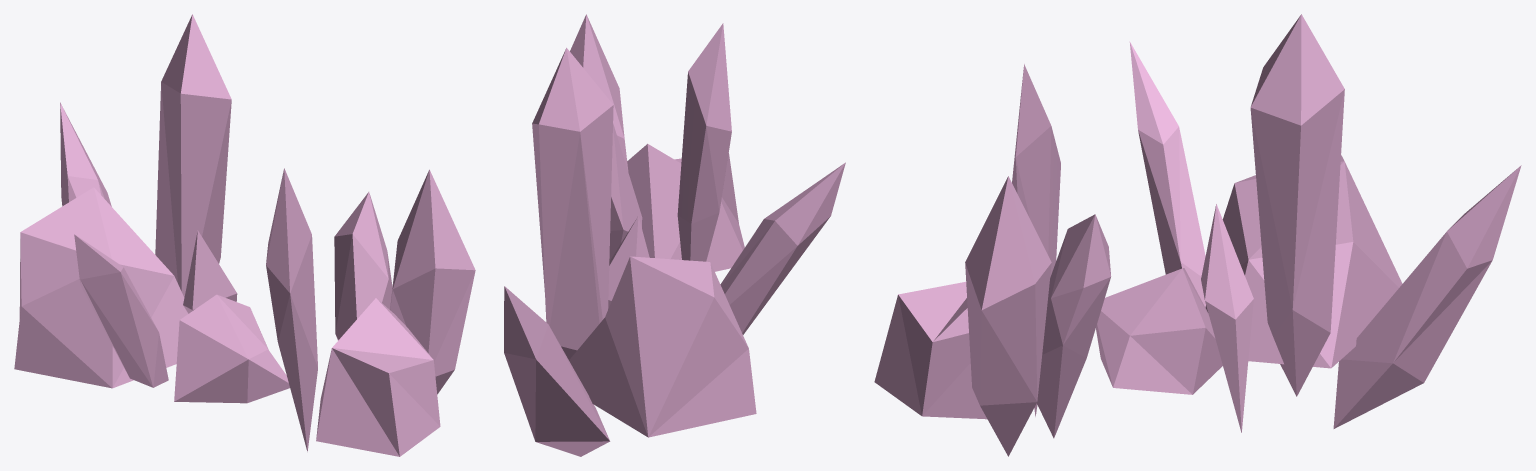
3 views of the same model, side by side, from view 1: azimuth 30°, elevation 25°; view 2: azimuth 150°, elevation 25°; view 3: azimuth 270°, elevation 25° (orthographic). The views are drawn at different scales.
Parts seen in each view (by area): view 1: Object77; view 2: Object77; view 3: Object77.
Boxes of the visible parts, <box> form: Object77: <box>14,14,475,456</box>; Object77: <box>504,14,845,456</box>; Object77: <box>874,14,1521,456</box>.
Size of the model in its own units: 464 by 496 by 675.
